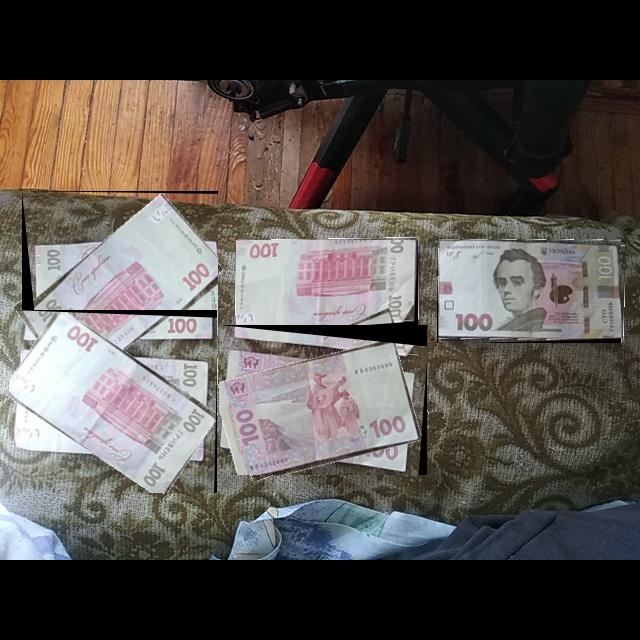100uah: (9, 312, 217, 494), (32, 193, 219, 386), (219, 340, 423, 476), (439, 239, 622, 340), (236, 240, 418, 335)
